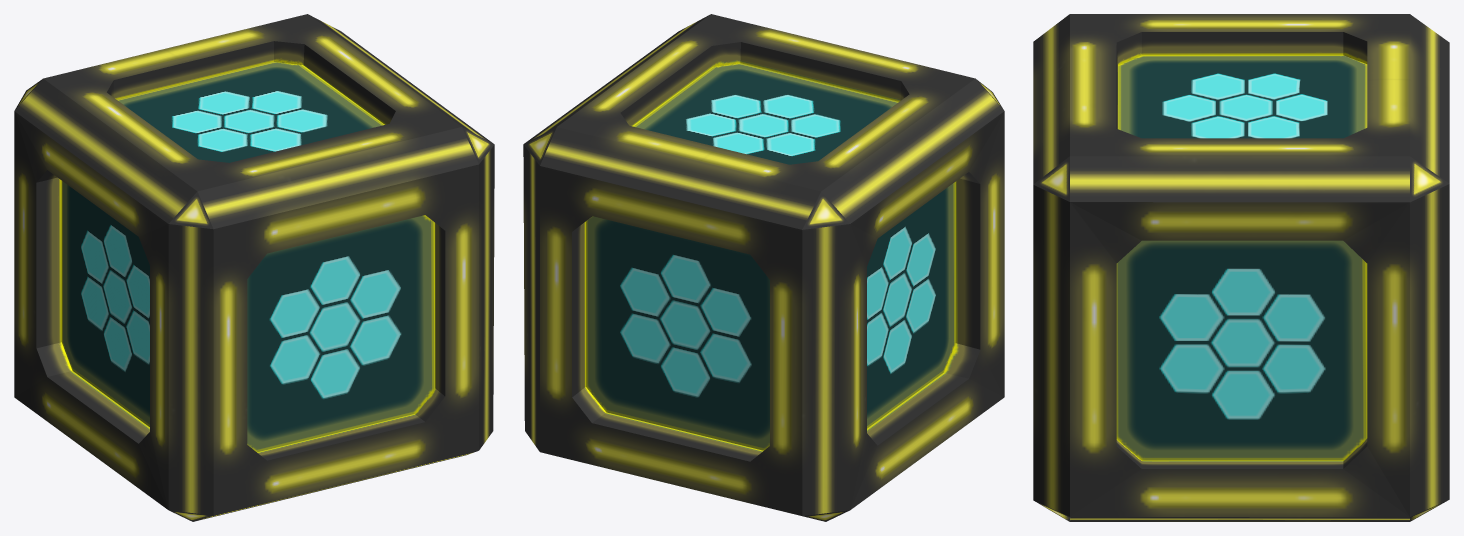
Rendered from ItemIcon_Shield.fbx.
3 views of the same model, side by side, from view 1: azimuth 30°, elevation 25°; view 2: azimuth 150°, elevation 25°; view 3: azimuth 270°, elevation 25° (orthographic). The views are drawn at different scales.
Parts seen in each view (by area): view 1: ItemIcon_Shield; view 2: ItemIcon_Shield; view 3: ItemIcon_Shield.
Boxes of the visible parts, x1,y1,x2,y2 form: ItemIcon_Shield: [14, 14, 494, 521]; ItemIcon_Shield: [523, 14, 1004, 521]; ItemIcon_Shield: [1033, 14, 1449, 521].
Bounding box in the file's own units: 94.2 × 90.72 × 94.28.
